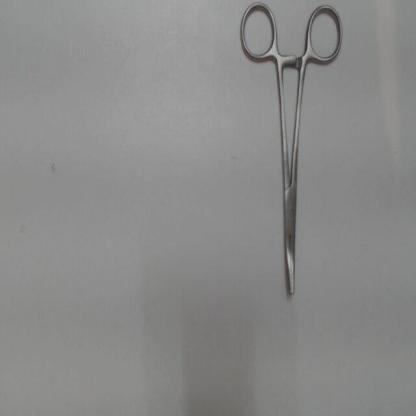Crile Artery Forceps: (236, 2, 348, 307)
